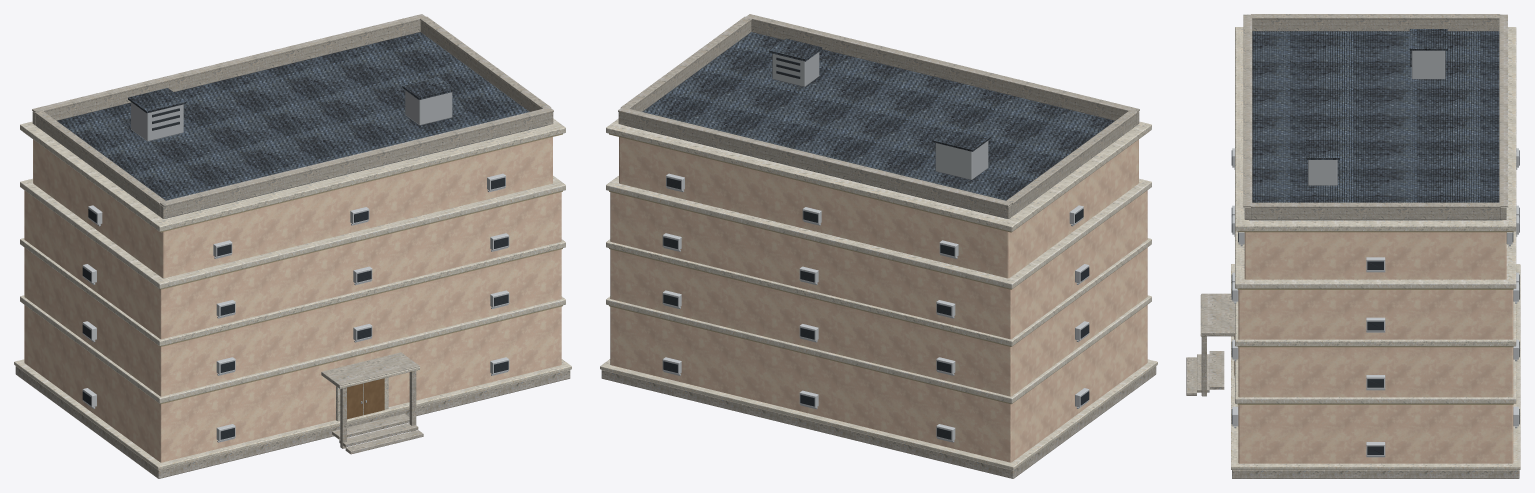
File: ov-bldC.glb
3 renders of one model, left to right at view 1: azimuth 30°, elevation 25°; view 2: azimuth 150°, elevation 25°; view 3: azimuth 270°, elevation 25°, orthographic.
Visible parts, largest first — view 1: bldC_body_F1_F3, bldC_roof_slab, bldC_body_F4_inset, bldC_cornice_roof, bldC_cornice_F4, bldC_parapet_S, bldC_plinth, bldC_parapet_N, bldC_plinth_cap, bldC_cornice_F2, bldC_cornice_F3, bldC_parapet_cap_S (+18 smaller); view 2: bldC_body_F1_F3, bldC_roof_slab, bldC_body_F4_inset, bldC_cornice_roof, bldC_cornice_F4, bldC_plinth, bldC_parapet_N, bldC_parapet_S, bldC_plinth_cap, bldC_cornice_F2, bldC_cornice_F3, bldC_parapet_cap_N (+13 smaller); view 3: bldC_body_F1_F3, bldC_roof_slab, bldC_body_F4_inset, bldC_cornice_roof, bldC_cornice_F4, bldC_plinth_cap, bldC_parapet_W, bldC_parapet_E, bldC_plinth, bldC_cornice_F3, bldC_cornice_F2, bldC_parapet_cap_S (+15 smaller).
Part boxes in pixels (left/top/right/bottom): bldC_body_F1_F3: left=24, top=190, right=561, bottom=462; bldC_roof_slab: left=57, top=32, right=544, bottom=218; bldC_body_F4_inset: left=33, top=137, right=552, bottom=278; bldC_cornice_roof: left=20, top=118, right=565, bottom=231; bldC_cornice_F4: left=20, top=176, right=565, bottom=288; bldC_parapet_S: left=160, top=112, right=553, bottom=218; bldC_plinth: left=15, top=366, right=570, bottom=478; bldC_parapet_N: left=32, top=20, right=420, bottom=125; bldC_plinth_cap: left=14, top=359, right=571, bottom=469; bldC_cornice_F2: left=20, top=295, right=565, bottom=403; bldC_cornice_F3: left=20, top=238, right=565, bottom=346; bldC_parapet_cap_S: left=160, top=107, right=553, bottom=206; bldC_body_F1_F3: left=610, top=190, right=1147, bottom=462; bldC_roof_slab: left=627, top=32, right=1114, bottom=218; bldC_body_F4_inset: left=619, top=137, right=1138, bottom=278; bldC_cornice_roof: left=606, top=118, right=1151, bottom=231; bldC_cornice_F4: left=606, top=176, right=1151, bottom=288; bldC_plinth: left=601, top=366, right=1156, bottom=478; bldC_parapet_N: left=618, top=112, right=1011, bottom=218; bldC_parapet_S: left=751, top=20, right=1139, bottom=125; bldC_plinth_cap: left=600, top=359, right=1157, bottom=469; bldC_cornice_F2: left=606, top=295, right=1151, bottom=403; bldC_cornice_F3: left=606, top=238, right=1151, bottom=346; bldC_parapet_cap_N: left=618, top=107, right=1011, bottom=206; bldC_body_F1_F3: left=1238, top=290, right=1513, bottom=463; bldC_roof_slab: left=1249, top=31, right=1501, bottom=220; bldC_body_F4_inset: left=1244, top=232, right=1506, bottom=279; bldC_cornice_roof: left=1235, top=27, right=1516, bottom=231; bldC_cornice_F4: left=1235, top=231, right=1516, bottom=288; bldC_plinth_cap: left=1231, top=264, right=1520, bottom=469; bldC_parapet_W: left=1252, top=19, right=1499, bottom=31; bldC_parapet_E: left=1251, top=208, right=1500, bottom=219; bldC_plinth: left=1232, top=470, right=1519, bottom=478; bldC_cornice_F3: left=1235, top=301, right=1516, bottom=346; bldC_cornice_F2: left=1235, top=359, right=1516, bottom=403; bldC_parapet_cap_S: left=1243, top=14, right=1252, bottom=207.
Bounding box in the file's own units: 22.7 × 14.92 × 15.8.
Materials: 9 (9 with a texture image).
